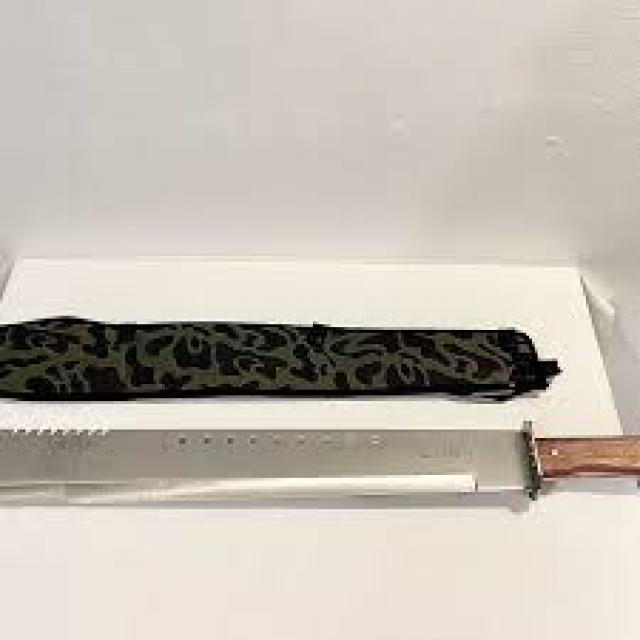long sword: (6, 416, 640, 536)
